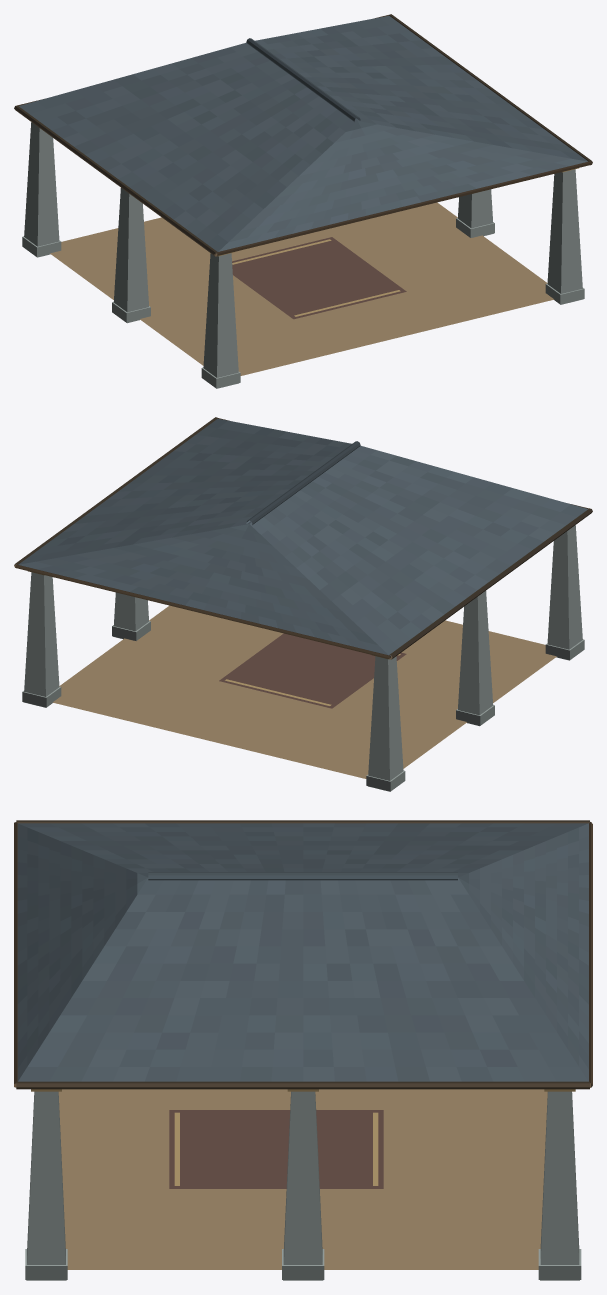
3 views of the same model, one above another, from view 1: azimuth 30°, elevation 25°; view 2: azimuth 150°, elevation 25°; view 3: azimuth 270°, elevation 25° (orthographic). The views are drawn at different scales.
Parts seen in each view (by area): view 1: 9860bc357d431b20468c9ca18fc090bd9e43d9400d5bf9aff4ca79c8c851; view 2: 9860bc357d431b20468c9ca18fc090bd9e43d9400d5bf9aff4ca79c8c851; view 3: 9860bc357d431b20468c9ca18fc090bd9e43d9400d5bf9aff4ca79c8c851.
Boxes of the visible parts, x1,y1,x2,y2 form: 9860bc357d431b20468c9ca18fc090bd9e43d9400d5bf9aff4ca79c8c851: (14, 14, 592, 388); 9860bc357d431b20468c9ca18fc090bd9e43d9400d5bf9aff4ca79c8c851: (14, 417, 592, 791); 9860bc357d431b20468c9ca18fc090bd9e43d9400d5bf9aff4ca79c8c851: (14, 820, 592, 1280).
Size of the model in its own units: 14.02 by 6.92 by 12.97.
6 materials, 1 textured.
